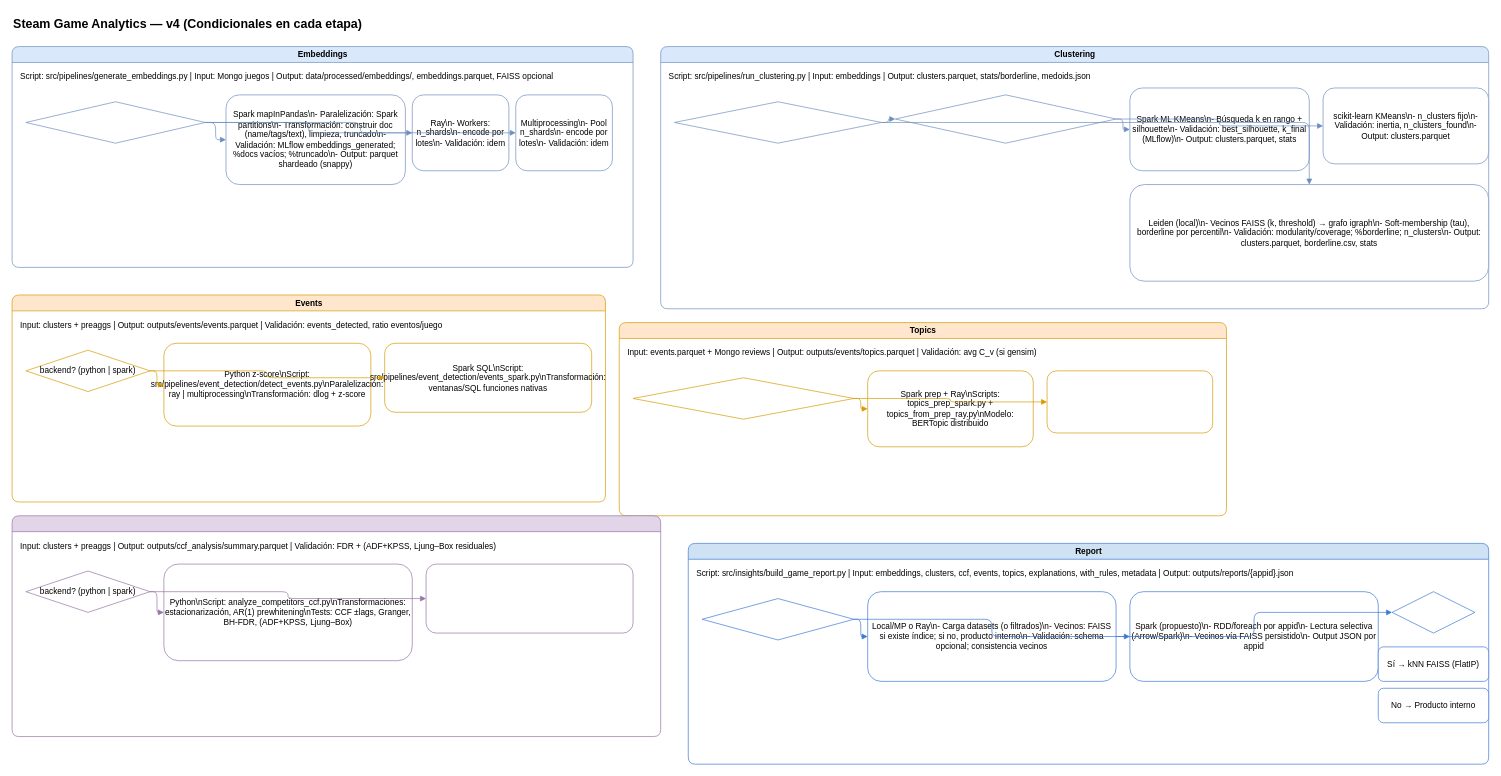
Image size: 1501x776. Some labels were removed from this diagram. The box of each missing label's shape, as (x1, y1, x2, y2) in pixels:
CCF / Granger: (11, 515, 661, 737)
cfg.method? (kmeans | graph_leiden) y n >= threshold_spark?: (674, 101, 881, 143)
KMeans → backend? (Spark ML si n>=threshold, si no sklearn): (895, 94, 1116, 143)
Local BERTopic\nScript: topic_motives.py\nModelo: BERTopic + ST: (1046, 370, 1213, 433)
modo? (local/mp | ray | spark propuesto): (701, 598, 854, 640)
parallelization.method? (spark | ray | multiprocessing): (25, 101, 205, 143)
pipeline? (Spark prep + Ray modelado | Local BERTopic): (632, 377, 854, 419)
Spark\nScript: ccf_spark.py\nTransformaciones/Tests: versión distribuida: (425, 563, 633, 633)
¿FAISS disponible?: (1391, 591, 1475, 633)
